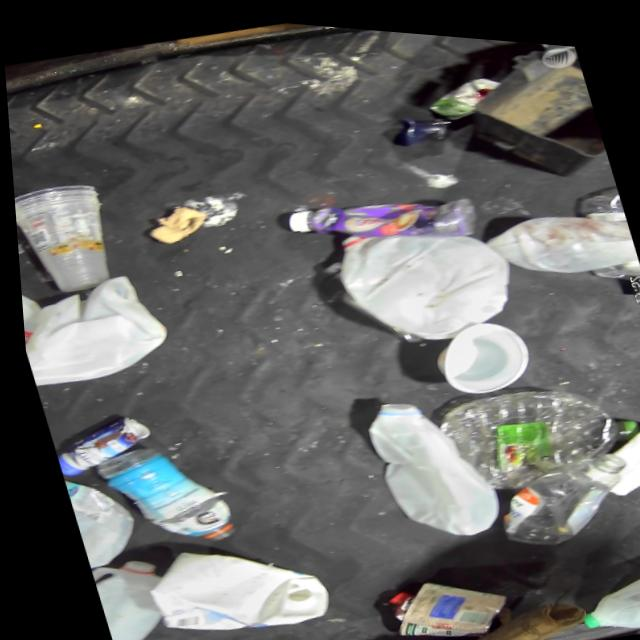can: (371, 551, 512, 640)
milk_jug: (321, 189, 531, 352), (349, 374, 505, 546), (15, 266, 179, 404), (140, 530, 329, 640), (486, 189, 639, 288), (549, 513, 640, 639), (54, 460, 145, 570), (77, 542, 175, 640)
plastic_bottle: (427, 348, 640, 498)
